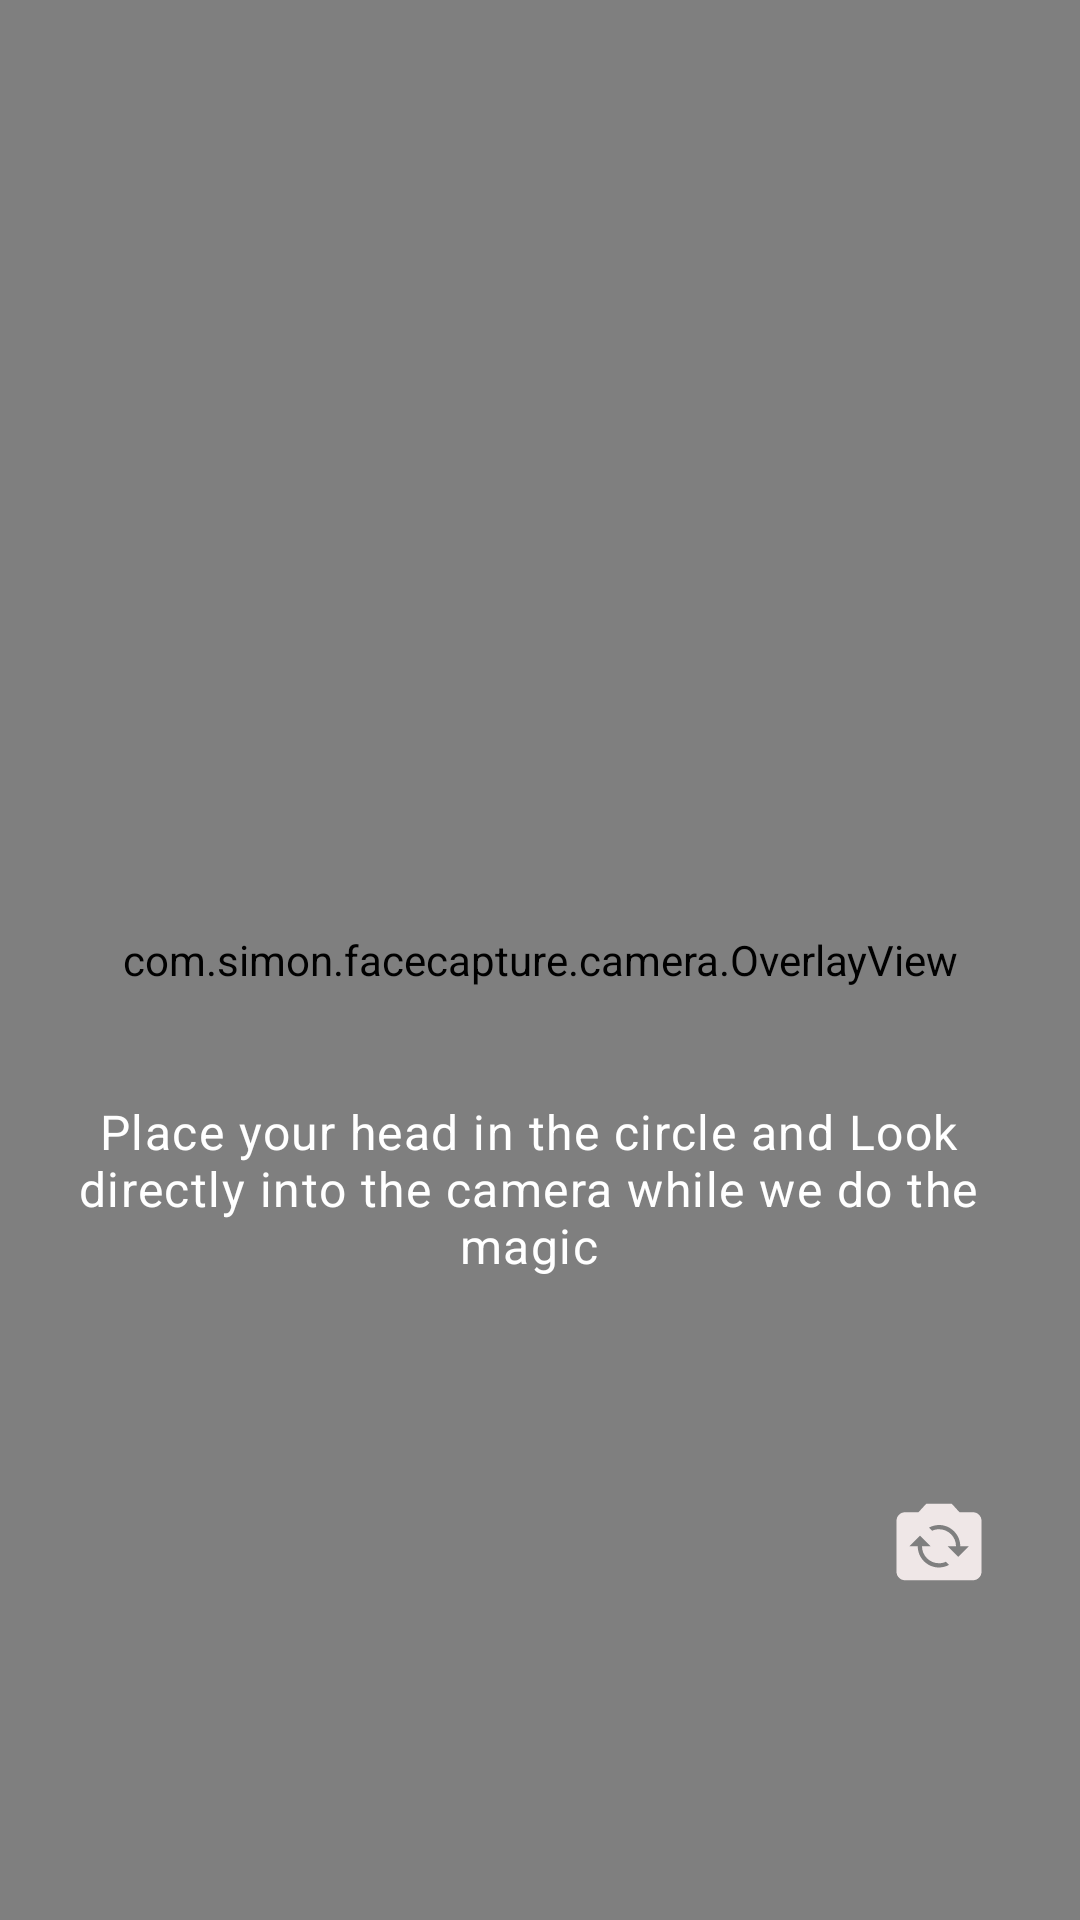

Where to tap for icons on this 1080px×1920px app screen, as (x=x, y=y):
flip camera: (x=939, y=1542)
